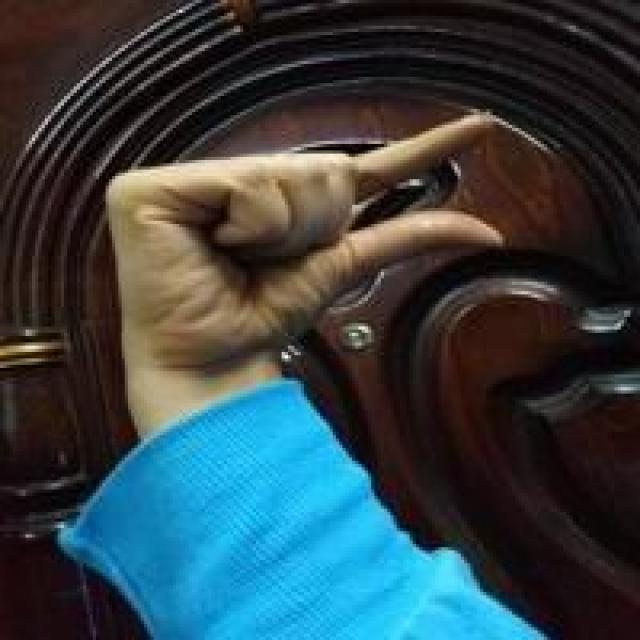G: (104, 110, 507, 350)
